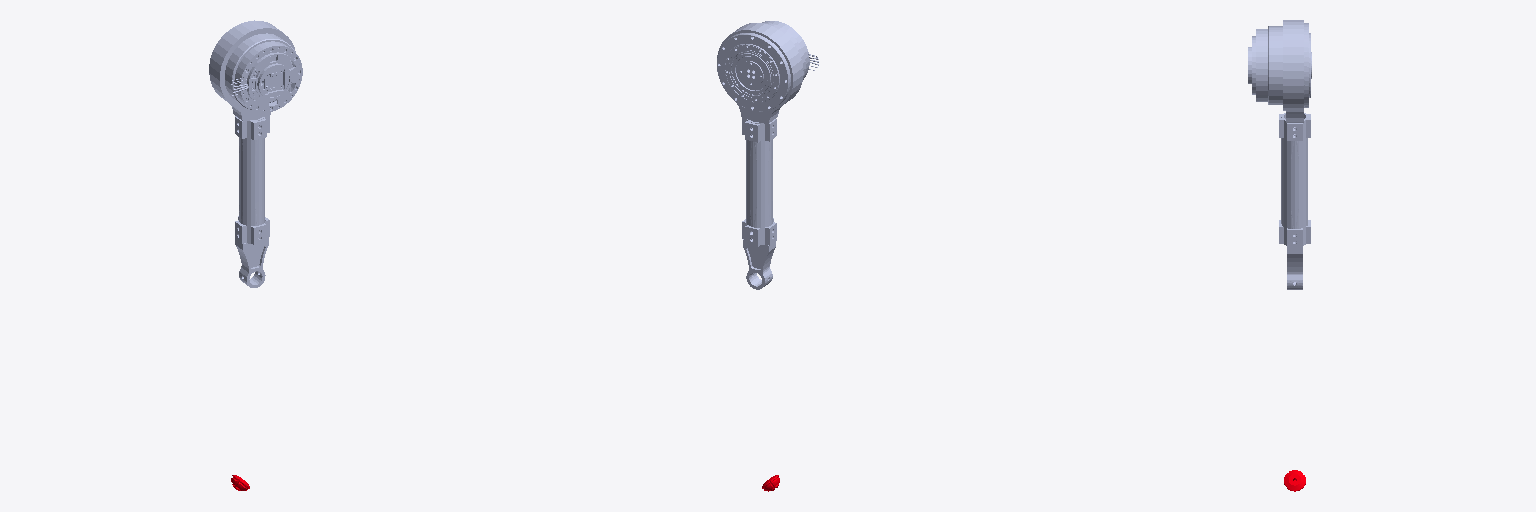
The robot description file, URDF, robot "PONGBOT_ONE_LEG":
<robot
  name="PONGBOT_ONE_LEG">
  <link
    name="BASE">
    <inertial>
      <origin
        xyz="-0.048 0.063 -0.002"
        rpy="0 0 0" />
      <mass
        value="3.6" />
      <inertia
        ixx="0.017"
        ixy="-0.005"
        ixz="0"
        iyy="0.022"
        iyz="0.001"
        izz="0.034" />
    </inertial>
    <visual>
      <origin
        xyz="0 0 0"
        rpy="0 0 0" />
      <geometry>
        <mesh
          filename="package://PONGBOT_ONE_LEG/meshes/BASE.STL" />
      </geometry>
      <material
        name="">
        <color
          rgba="0.79216 0.81961 0.93333 1" />
      </material>
    </visual>
    <collision>
      <origin
        xyz="0 0 0"
        rpy="0 0 0" />
      <geometry>
        <mesh
          filename="package://PONGBOT_ONE_LEG/meshes/BASE.STL" />
      </geometry>
    </collision>
  </link>
  <link
    name="HIP">
    <inertial>
      <origin
        xyz="0.001 0.003 0"
        rpy="0 0 0" />
      <mass
        value="2.35" />
      <inertia
        ixx="0.002"
        ixy="0"
        ixz="0"
        iyy="0.002"
        iyz="0"
        izz="0.002" />
    </inertial>
    <visual>
      <origin
        xyz="0 0 0"
        rpy="0 0 0" />
      <geometry>
        <mesh
          filename="package://PONGBOT_ONE_LEG/meshes/HIP.STL" />
      </geometry>
      <material
        name="">
        <color
          rgba="0.79216 0.81961 0.93333 1" />
      </material>
    </visual>
    <collision>
      <origin
        xyz="0 0 0"
        rpy="0 0 0" />
      <geometry>
        <mesh
          filename="package://PONGBOT_ONE_LEG/meshes/HIP.STL" />
      </geometry>
    </collision>
  </link>
  <joint
    name="HR_JOINT"
    type="continuous">
    <origin
      xyz="0 0.1208 0"
      rpy="0 0 0" />
    <parent
      link="BASE" />
    <child
      link="HIP" />
    <axis
      xyz="1 0 0" />
  </joint>
  <link
    name="THIGH">
    <inertial>
      <origin
        xyz="0 -0.01 -0.037"
        rpy="0 0 0" />
      <mass
        value="3.15" />
      <inertia
        ixx="0.024"
        ixy="0"
        ixz="0"
        iyy="0.025"
        iyz="-0.001"
        izz="0.003" />
    </inertial>
    <visual>
      <origin
        xyz="0 0 0"
        rpy="0 0 0" />
      <geometry>
        <mesh
          filename="package://PONGBOT_ONE_LEG/meshes/THIGH.STL" />
      </geometry>
      <material
        name="">
        <color
          rgba="0.79216 0.81961 0.93333 1" />
      </material>
    </visual>
    <collision>
      <origin
        xyz="0 0 0"
        rpy="0 0 0" />
      <geometry>
        <mesh
          filename="package://PONGBOT_ONE_LEG/meshes/THIGH.STL" />
      </geometry>
    </collision>
  </link>
  <joint
    name="HP_JOINT"
    type="continuous">
    <origin
      xyz="0 0.105 0"
      rpy="0 0 0" />
    <parent
      link="HIP" />
    <child
      link="THIGH" />
    <axis
      xyz="0 1 0" />
  </joint>
  <link
    name="CALF">
    <inertial>
      <origin
        xyz="-0.001 -0.006 -0.081"
        rpy="0 0 0" />
      <mass
        value="0.35" />
      <inertia
        ixx="0.01"
        ixy="0"
        ixz="0"
        iyy="0.01"
        iyz="0"
        izz="0" />
    </inertial>
    <visual>
      <origin
        xyz="0 0 0"
        rpy="0 0 0" />
      <geometry>
        <mesh
          filename="package://PONGBOT_ONE_LEG/meshes/CALF.STL" />
      </geometry>
      <material
        name="">
        <color
          rgba="0.79216 0.81961 0.93333 1" />
      </material>
    </visual>
    <collision>
      <origin
        xyz="0 0 0"
        rpy="0 0 0" />
      <geometry>
        <mesh
          filename="package://PONGBOT_ONE_LEG/meshes/CALF.STL" />
      </geometry>
    </collision>
  </link>
  <joint
    name="KN_JOINT"
    type="continuous">
    <origin
      xyz="0 0 -0.305"
      rpy="0 0 0" />
    <parent
      link="THIGH" />
    <child
      link="CALF" />
    <axis
      xyz="0 1 0" />
  </joint>
  <link
    name="TIP">
    <inertial>
      <origin
        xyz="-0.005 0 -0.005"
        rpy="0 0 0" />
      <mass
        value="0.006" />
      <inertia
        ixx="0"
        ixy="0"
        ixz="0"
        iyy="0"
        iyz="0"
        izz="0" />
    </inertial>
    <visual>
      <origin
        xyz="0 0 0"
        rpy="0 0 0" />
      <geometry>
        <mesh
          filename="package://PONGBOT_ONE_LEG/meshes/TIP.STL" />
      </geometry>
      <material
        name="">
        <color
          rgba="1 0 0.098039 1" />
      </material>
    </visual>
    <collision>
      <origin
        xyz="0 0 0"
        rpy="0 0 0" />
      <geometry>
        <mesh
          filename="package://PONGBOT_ONE_LEG/meshes/TIP.STL" />
      </geometry>
    </collision>
  </link>
  <joint
    name="TIP_JOINT"
    type="fixed">
    <origin
      xyz="-0.013819 0 -0.29282"
      rpy="0 0 0" />
    <parent
      link="CALF" />
    <child
      link="TIP" />
    <axis
      xyz="0 0 0" />
  </joint>
</robot>

--- Render facts (derived) ---
The picture shows the robot from 3 angles, left to right: view 1: azimuth 30°, elevation 25°; view 2: azimuth 150°, elevation 25°; view 3: azimuth 270°, elevation 25°; orthographic projection.
Model PONGBOT_ONE_LEG with 5 links and 4 joints (3 continuous, 1 fixed), rooted at BASE, posed all joints at 0.
Links seen in each view (by area): view 1: THIGH; view 2: THIGH; view 3: THIGH.
Link boxes in pixels (<box>): THIGH: <box>209,20,302,287</box>; THIGH: <box>717,21,818,289</box>; THIGH: <box>1248,20,1311,289</box>.
Bounding box of the posed robot: 0.1197 × 0.0829 × 0.672 m (x, y, z).
2 mesh visuals loaded from 5 distinct referenced files (2 binary STL); not drawn: 3 (reference not matched to a file when rendering).